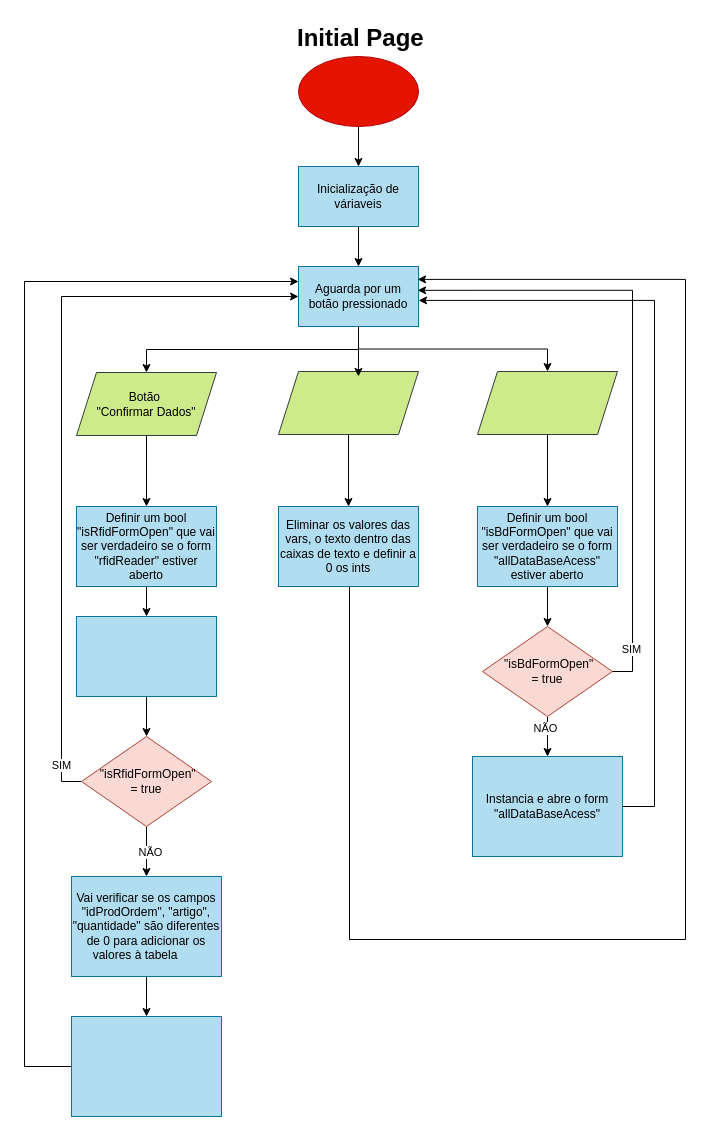
Image size: 711x1134. Some labels were removed from this diagram. Each missing label, with the centre of its shape:
Botão "Base de Dados": (x=547, y=402)
Botão "Limpar": (x=348, y=402)
INICIO: (x=358, y=91)
Instancia e abre o form "rfidReader": (x=146, y=1066)
Obter os valores das caixas de texto e igualar ás respetivas vars: (x=146, y=656)
